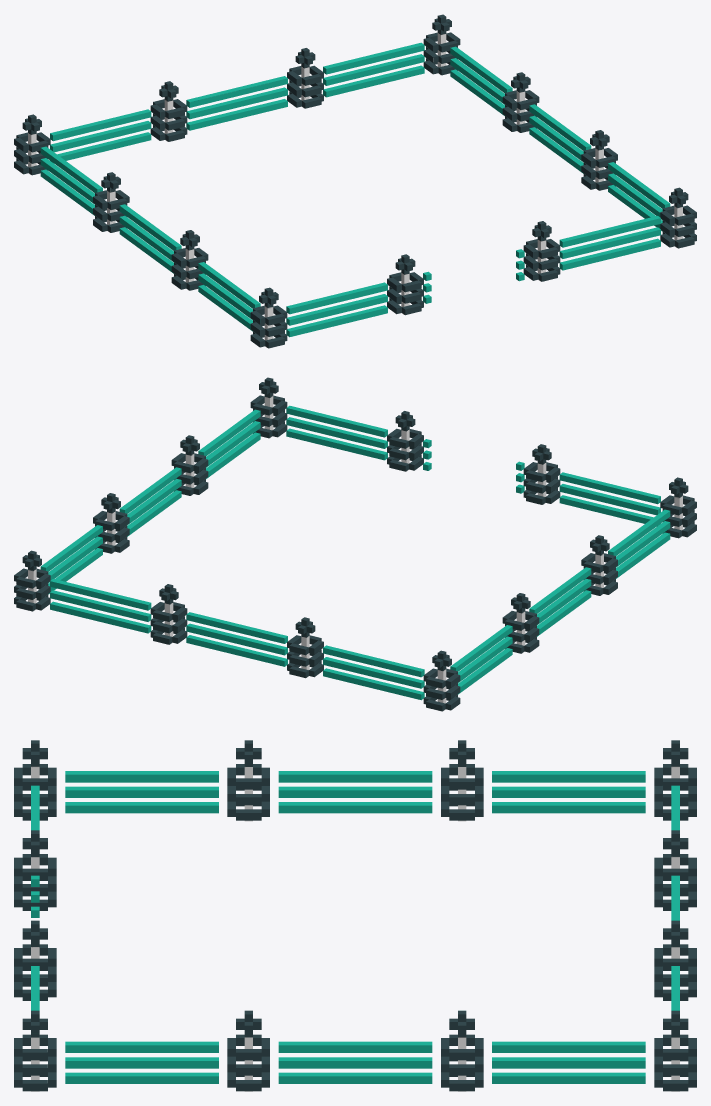
File: laser_fence_overtile.glb
3 views of the same model, one above another, from view 1: azimuth 30°, elevation 25°; view 2: azimuth 150°, elevation 25°; view 3: azimuth 270°, elevation 25° (orthographic). The views are drawn at different scales.
Visible parts, largest first — view 1: laser_fence_overtile; view 2: laser_fence_overtile; view 3: laser_fence_overtile.
Boxes of the visible parts, bbox=[...] form: laser_fence_overtile: bbox=[14, 14, 696, 348]; laser_fence_overtile: bbox=[14, 377, 696, 711]; laser_fence_overtile: bbox=[14, 740, 696, 1091].
Size of the model in its own units: 8 by 1 by 8.
Materials: 1 (1 with a texture image).
